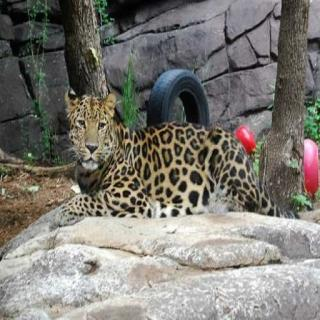Leopard: (64, 71, 300, 246)
